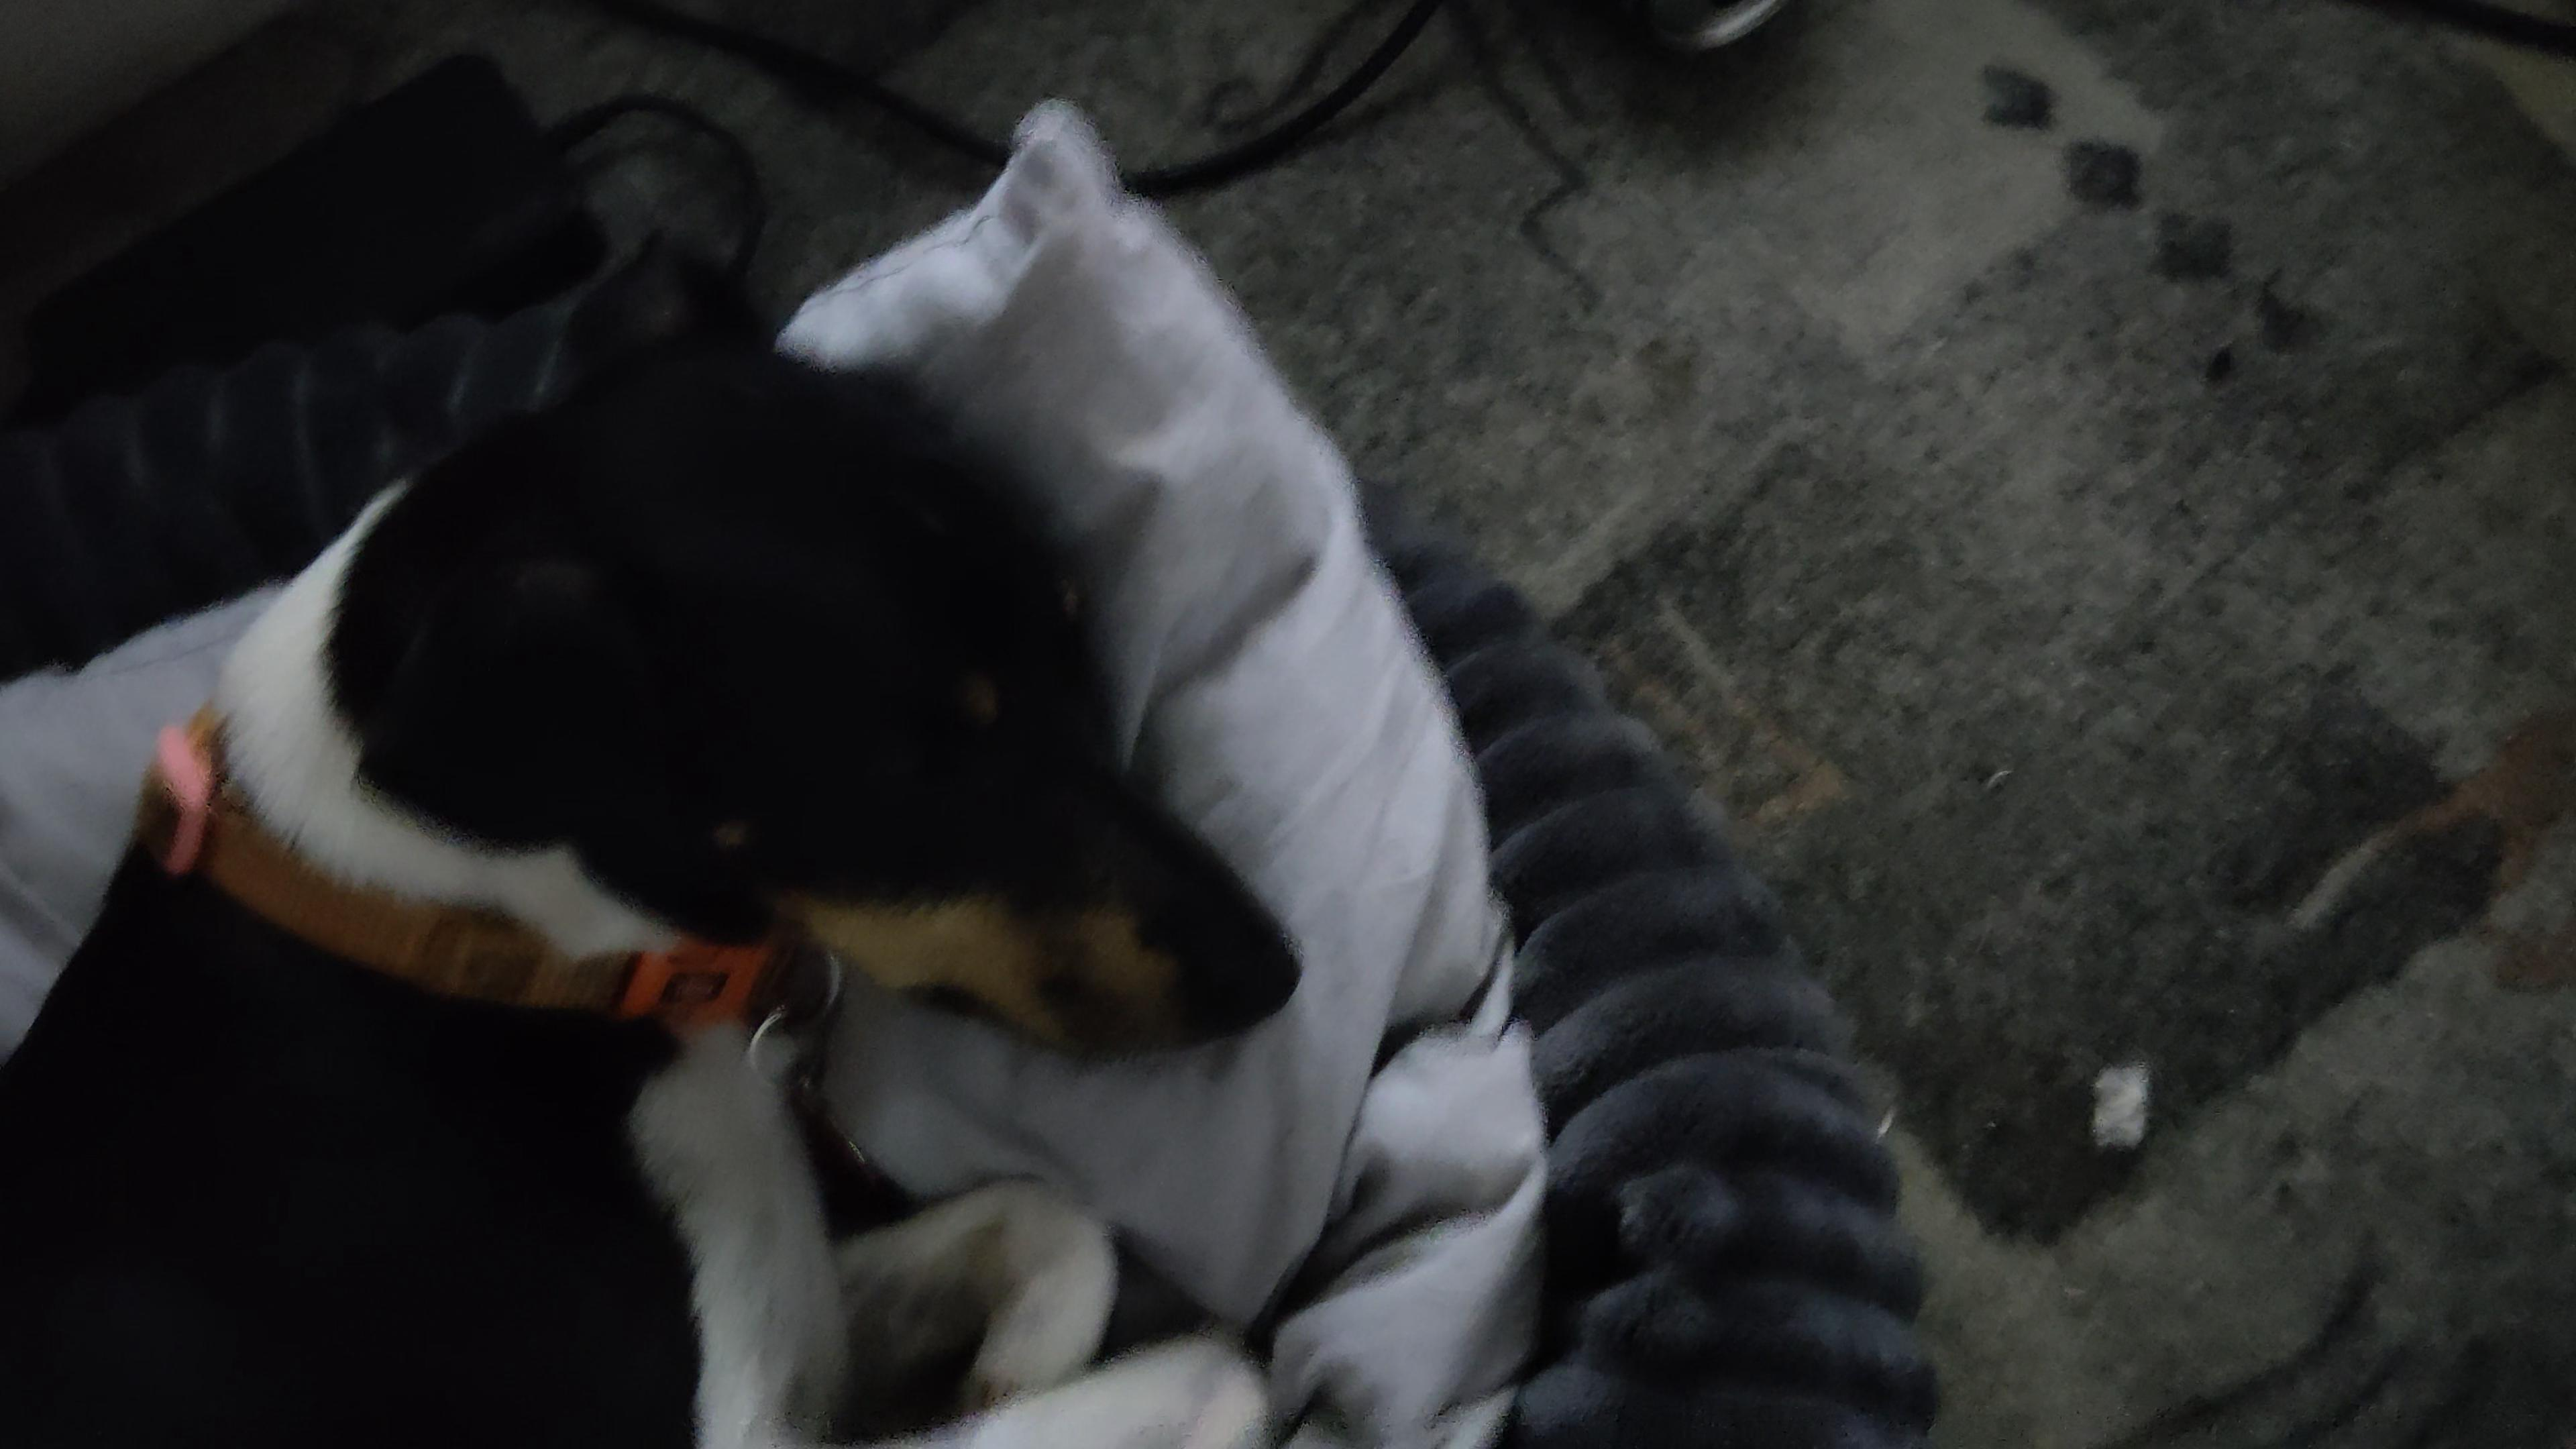Dog: (0, 228, 1325, 1449)
